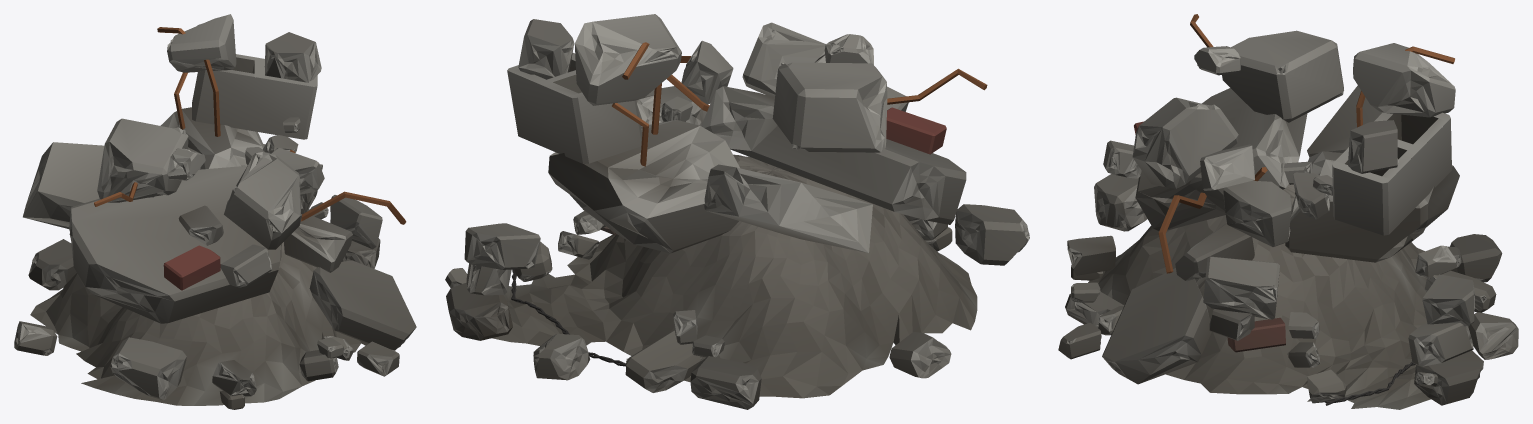
File: wasteland_rubble_pile.glb
The picture shows the model from 3 angles, left to right: view 1: azimuth 30°, elevation 25°; view 2: azimuth 150°, elevation 25°; view 3: azimuth 270°, elevation 25°; orthographic projection. The views are drawn at different scales.
Visible parts, largest first — view 1: wasteland_rubble_pile; view 2: wasteland_rubble_pile; view 3: wasteland_rubble_pile.
Part boxes in pixels (x1,y1,x2,y2): wasteland_rubble_pile: (14,14,416,409); wasteland_rubble_pile: (445,14,1029,409); wasteland_rubble_pile: (1058,14,1518,409).
Size of the model in its own units: 1.38 by 0.9357 by 1.35.
